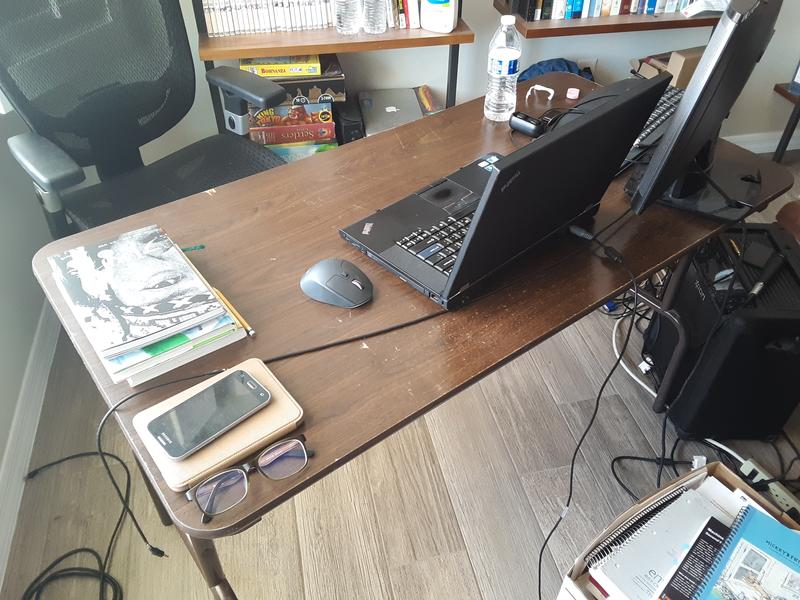glasses: (184, 433, 319, 525)
